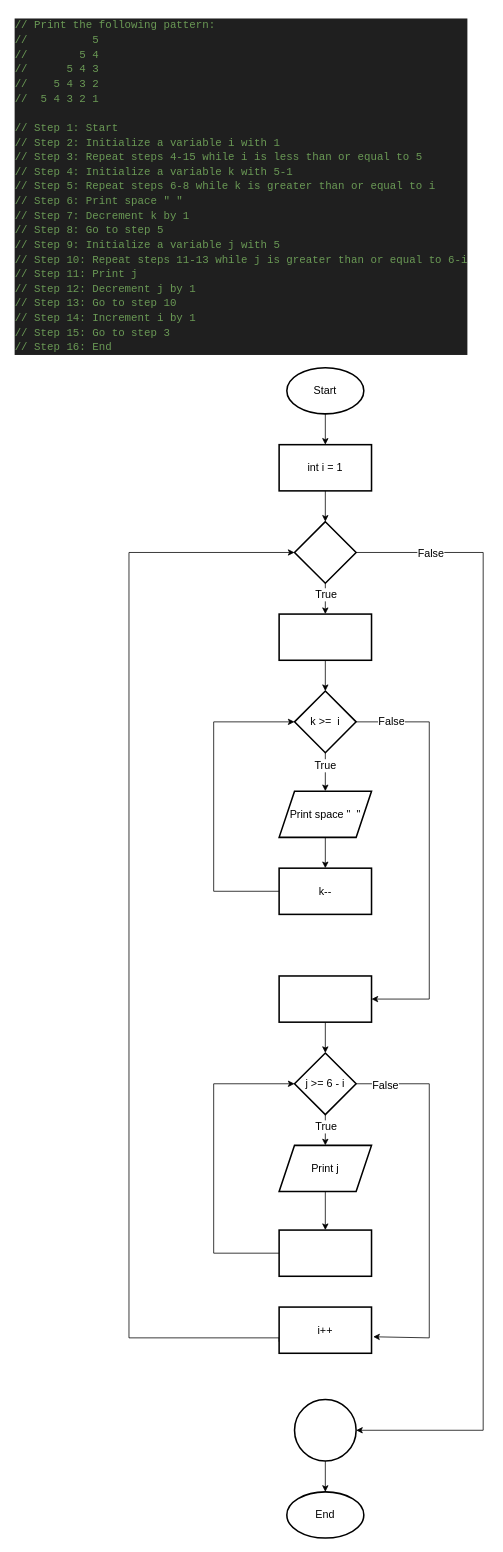
Image size: 503x1552. Some labels were removed from this diagram. The centre of each missing label's shape, as x and y in pixels:
"i <= 5" belongs at point 325,552.
"int j = 5" belongs at point 325,999.
"int k = 5 - 1" belongs at point 325,637.
"j--" belongs at point 325,1253.
